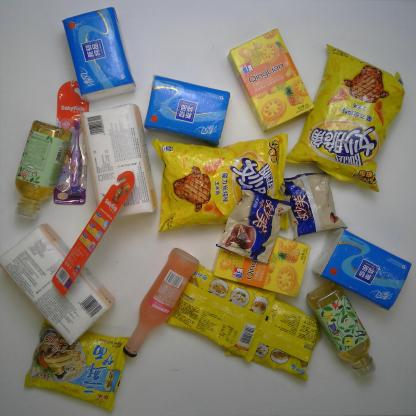Alcohol: (124, 246, 199, 358)
Dessert: (229, 28, 314, 134), (212, 227, 311, 296), (216, 184, 289, 264), (283, 172, 349, 240)
Drink: (306, 283, 376, 379), (11, 120, 70, 218)
Instant Noodles: (169, 259, 275, 363), (21, 320, 128, 410), (226, 292, 324, 380)
Personal Hygiene: (54, 169, 135, 297), (53, 76, 89, 203)
Puffed Food: (287, 45, 402, 194), (152, 135, 288, 231)
Tissue: (0, 223, 117, 346), (83, 106, 157, 220), (313, 226, 411, 309), (61, 7, 136, 100), (146, 74, 230, 148)
